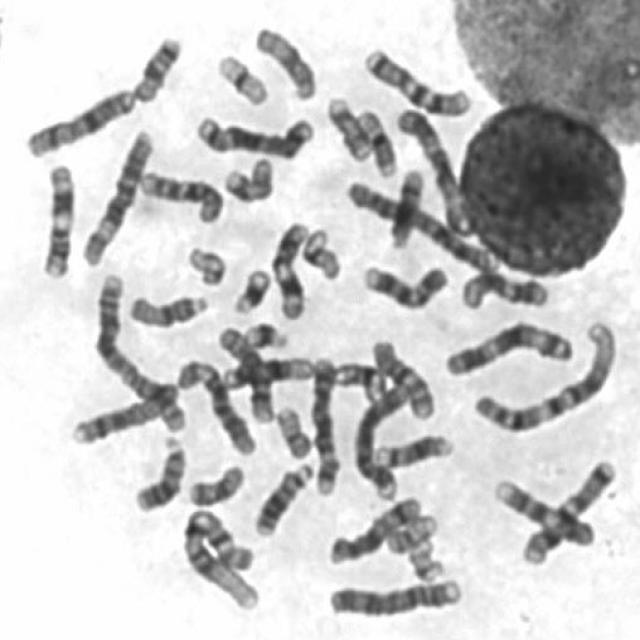A1: (465, 312, 621, 436), (174, 500, 262, 613)
A2: (88, 267, 189, 436), (339, 173, 499, 275)
A3: (388, 100, 470, 240), (437, 313, 577, 379)
B4: (346, 375, 414, 501), (322, 570, 465, 620)
B5: (189, 108, 316, 160), (304, 349, 342, 497)
C10: (366, 331, 438, 422), (132, 162, 225, 226)
C11: (34, 155, 77, 281), (265, 214, 311, 321)
C12: (214, 348, 316, 391), (458, 270, 554, 313)
C6: (75, 121, 156, 268), (170, 350, 258, 457)
C7: (515, 451, 620, 568), (356, 40, 474, 117)
C8: (64, 372, 183, 446), (210, 318, 276, 424)
C9: (488, 471, 597, 549), (355, 256, 450, 312)
D13: (247, 453, 317, 538), (126, 428, 188, 514)
D14: (384, 161, 428, 249), (368, 426, 455, 470)
D15: (247, 18, 319, 102), (122, 284, 210, 330)
E16: (349, 102, 399, 179), (328, 354, 387, 400)
E17: (320, 88, 374, 164), (217, 150, 276, 204)
E18: (126, 27, 184, 104), (180, 457, 247, 508)
F19: (209, 45, 271, 108), (296, 220, 344, 282)
F20: (379, 506, 441, 556), (268, 398, 315, 460)
G21: (226, 260, 274, 316), (238, 314, 291, 352)
G22: (180, 238, 229, 288), (402, 535, 447, 584)
X: (18, 79, 136, 159), (321, 489, 425, 566)
